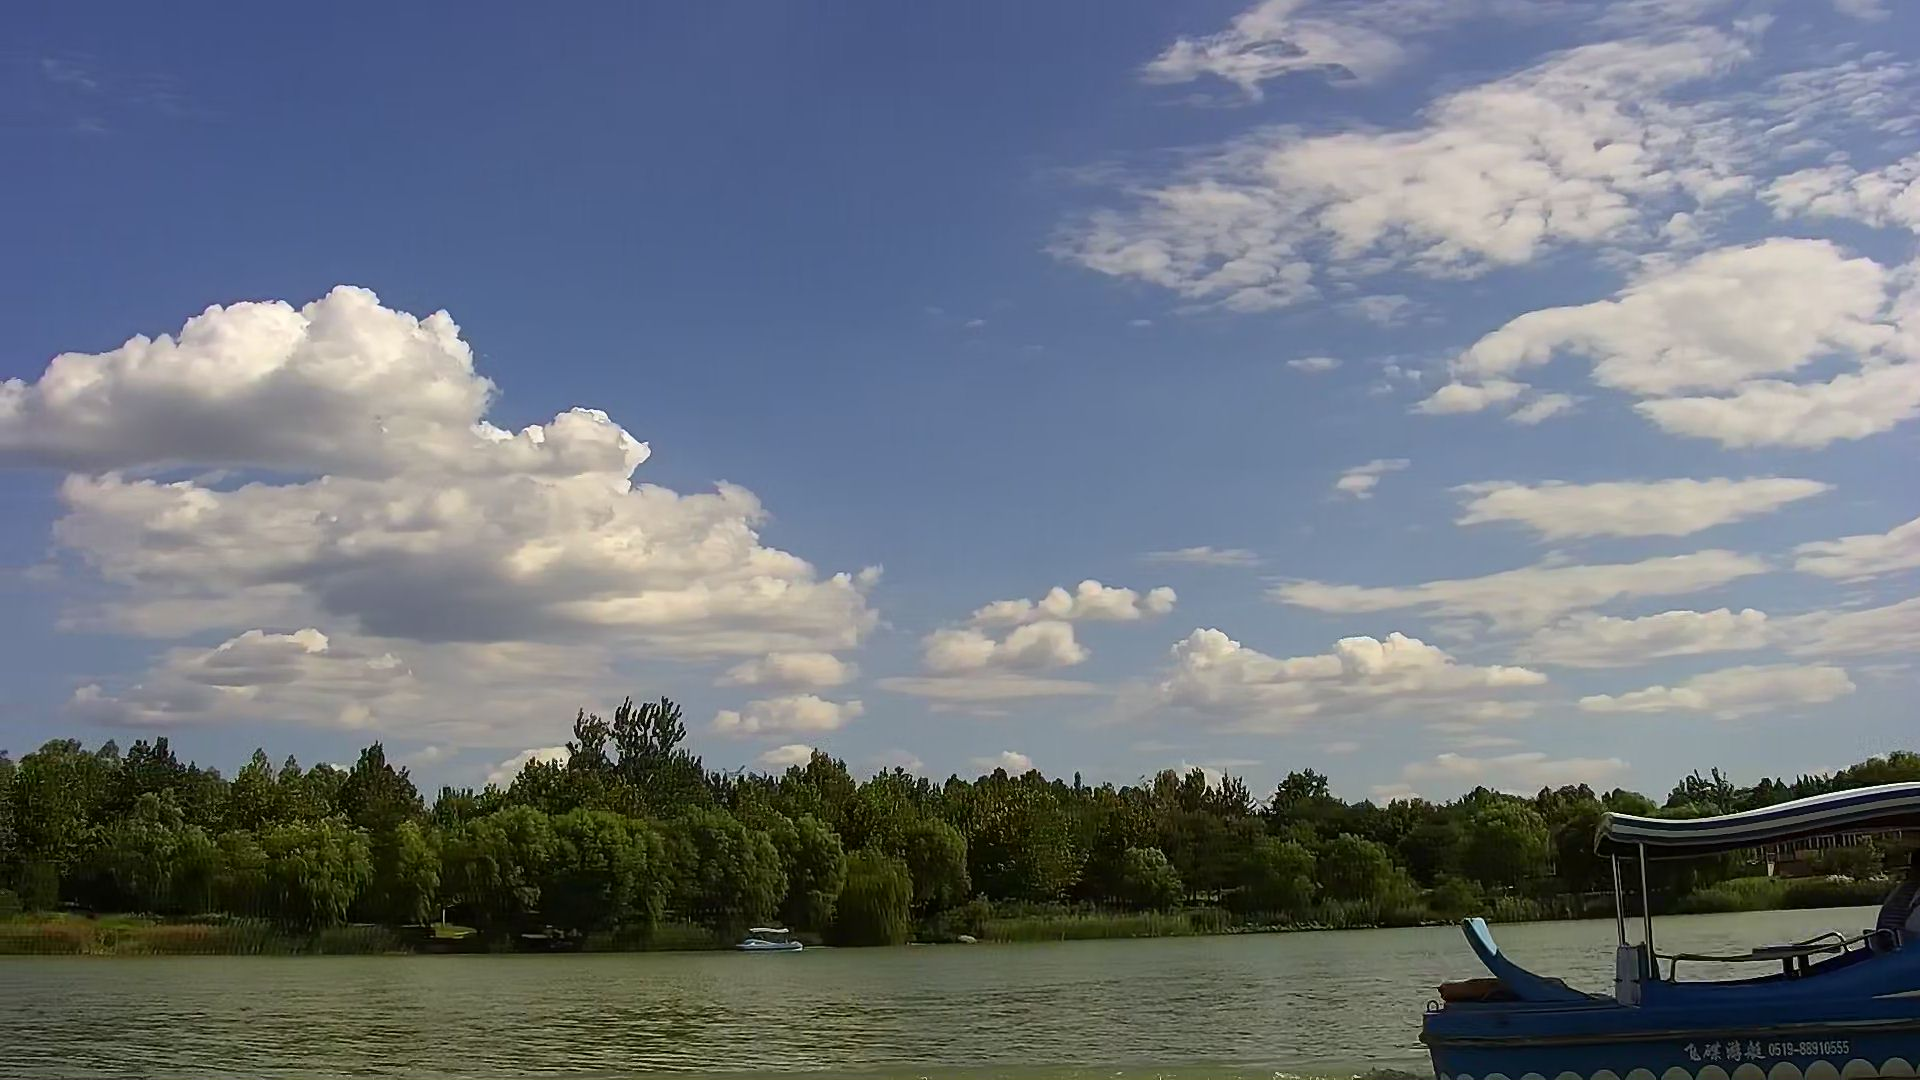boat: (1396, 731, 1912, 1080), (729, 923, 804, 957)
